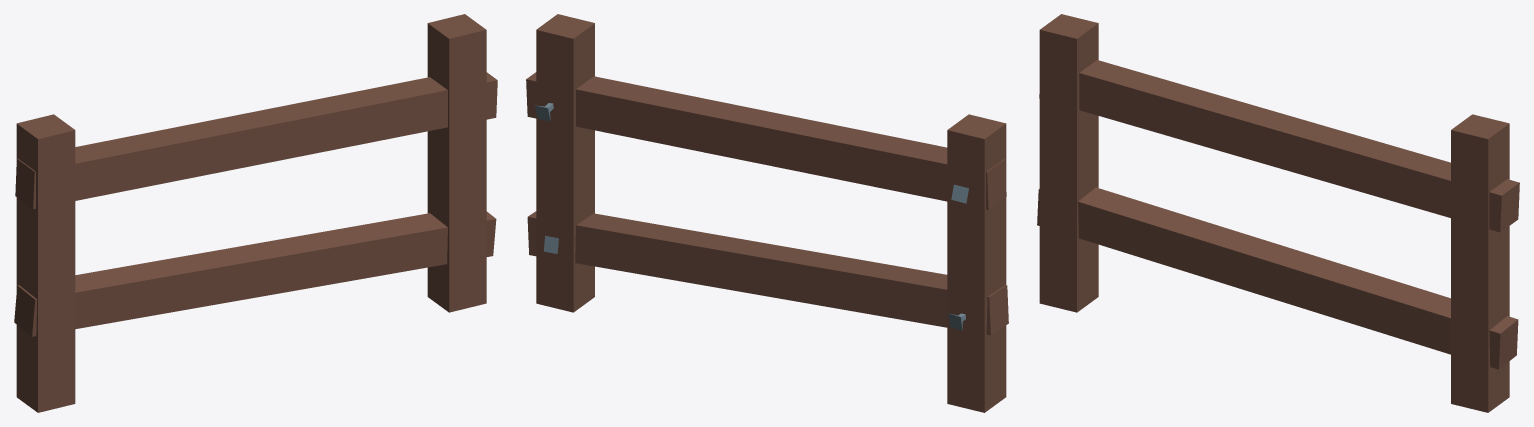
The model's file is fence-2.glb.
3 views of the same model, side by side, from view 1: azimuth 30°, elevation 25°; view 2: azimuth 150°, elevation 25°; view 3: azimuth 330°, elevation 25° (orthographic).
Visible parts, largest first — view 1: group1665241248, group1089299160, group320382041, group251762872; view 2: group1089299160, group1665241248, group320382041, group251762872; view 3: group1665241248, group1089299160, group320382041, group251762872.
Boxes of the visible parts, x1=… form: group1665241248: x1=14, y1=211, x2=496, y2=336; group1089299160: x1=15, y1=72, x2=497, y2=209; group320382041: x1=16, y1=114, x2=75, y2=412; group251762872: x1=427, y1=14, x2=486, y2=312; group1089299160: x1=526, y1=72, x2=1006, y2=209; group1665241248: x1=527, y1=211, x2=1008, y2=335; group320382041: x1=947, y1=114, x2=1006, y2=412; group251762872: x1=536, y1=14, x2=594, y2=312; group1665241248: x1=1037, y1=187, x2=1518, y2=369; group1089299160: x1=1039, y1=60, x2=1519, y2=232; group320382041: x1=1039, y1=14, x2=1098, y2=312; group251762872: x1=1451, y1=114, x2=1509, y2=412.
Size of the model in its own units: 0.9961 by 0.56 by 0.1113.
